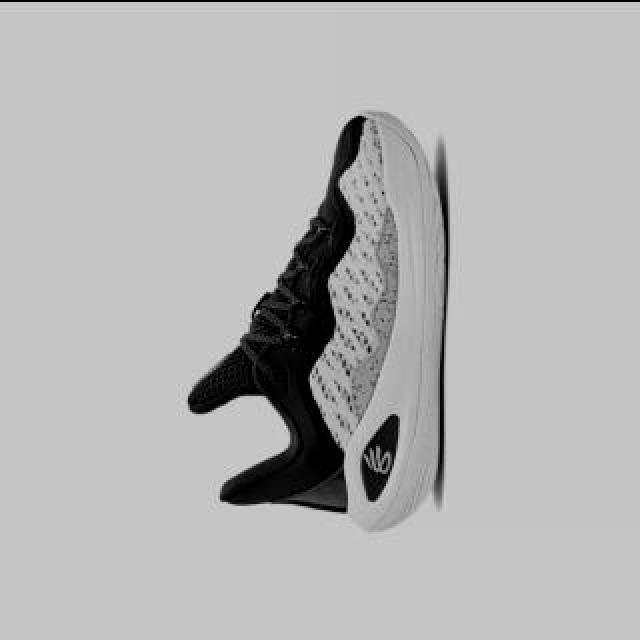shoe: (183, 105, 448, 533), (188, 107, 444, 531)
